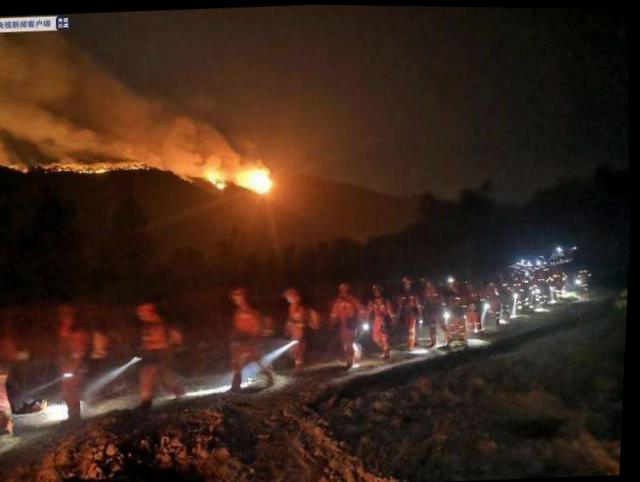fire: (202, 153, 281, 203)
